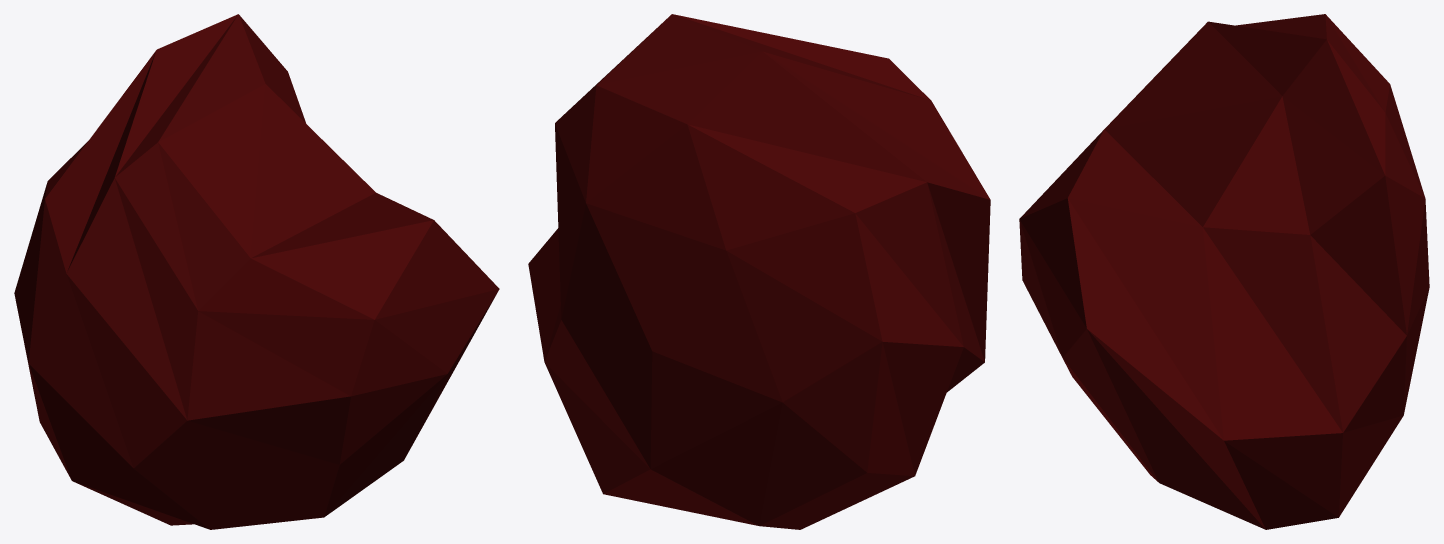
3 views of the same model, side by side, from view 1: azimuth 30°, elevation 25°; view 2: azimuth 150°, elevation 25°; view 3: azimuth 270°, elevation 25° (orthographic). The views are drawn at different scales.
Parts seen in each view (by area): view 1: forest35_3; view 2: forest35_3; view 3: forest35_3.
Part boxes in pixels (x1,y1,x2,y2): forest35_3: (14, 14, 499, 529); forest35_3: (528, 14, 990, 529); forest35_3: (1019, 14, 1429, 529).
Bounding box in the file's own units: 122 × 103 × 130.
